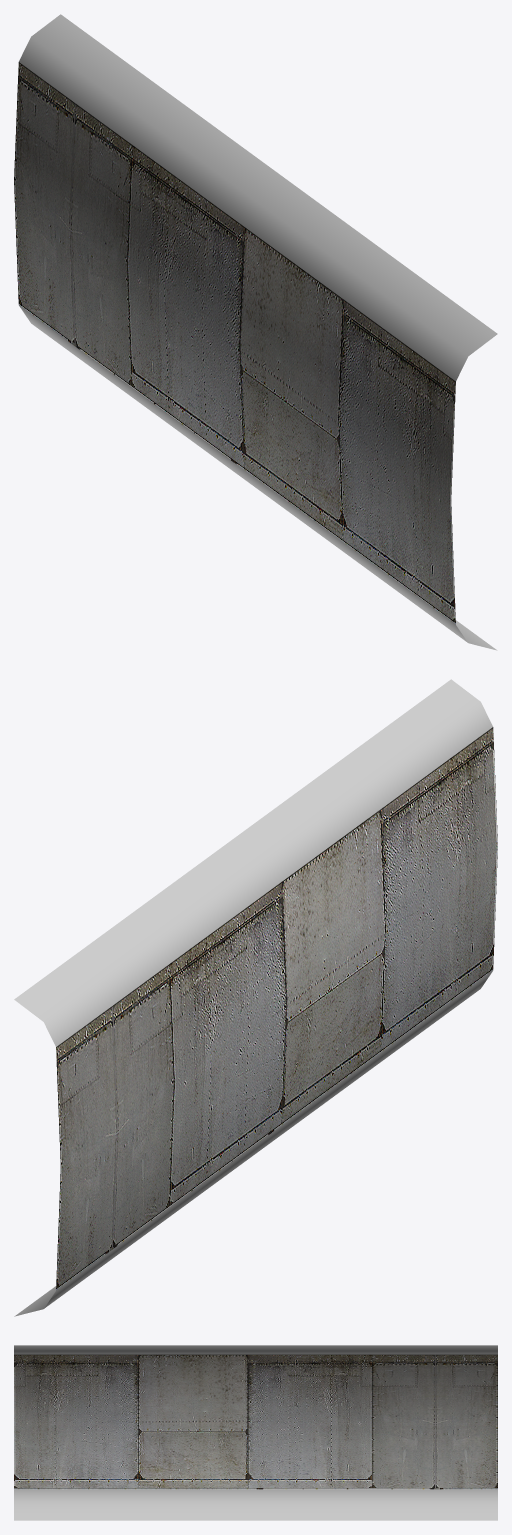
File: Wall_D_Short2mts_04.fbx
3 views of the same model, one above another, from view 1: azimuth 30°, elevation 25°; view 2: azimuth 150°, elevation 25°; view 3: azimuth 270°, elevation 25° (orthographic). The views are drawn at different scales.
Parts seen in each view (by area): view 1: Wall_D_Short2mts_04; view 2: Wall_D_Short2mts_04; view 3: Wall_D_Short2mts_04.
Part boxes in pixels (<box>): Wall_D_Short2mts_04: <box>14,14,497,650</box>; Wall_D_Short2mts_04: <box>14,679,497,1316</box>; Wall_D_Short2mts_04: <box>14,1345,497,1520</box>.
Bounding box in the file's own units: 31.07 × 200 × 500.
